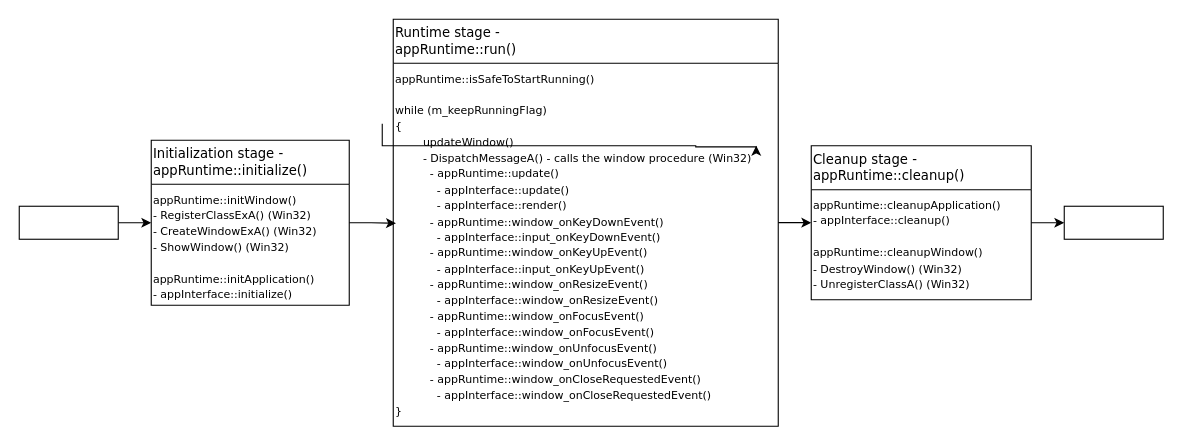
Image size: 1183x446. Some labels were removed from this diagram. The shapes that lost their labels are listed below. From the top down, each one's centre as x and y in pixels, then its label:
point (68, 222): Program start
point (1113, 222): Program exit
